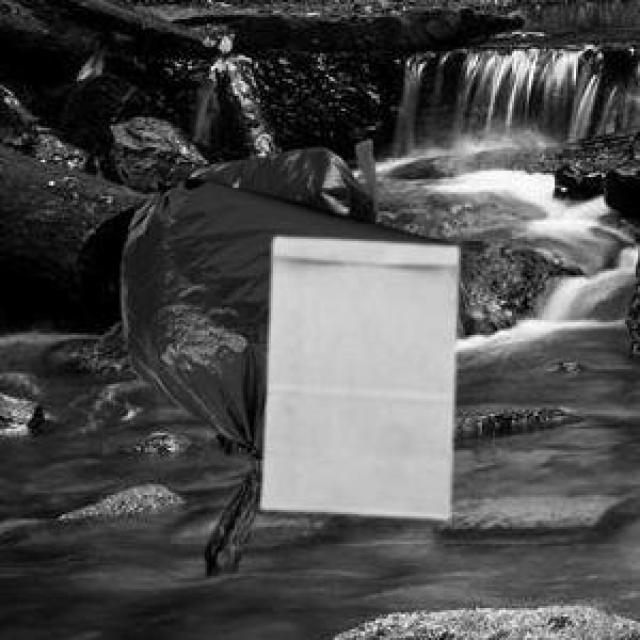miscellaneous trash: (117, 175, 467, 572), (154, 137, 372, 220)
paper: (258, 233, 454, 514)
